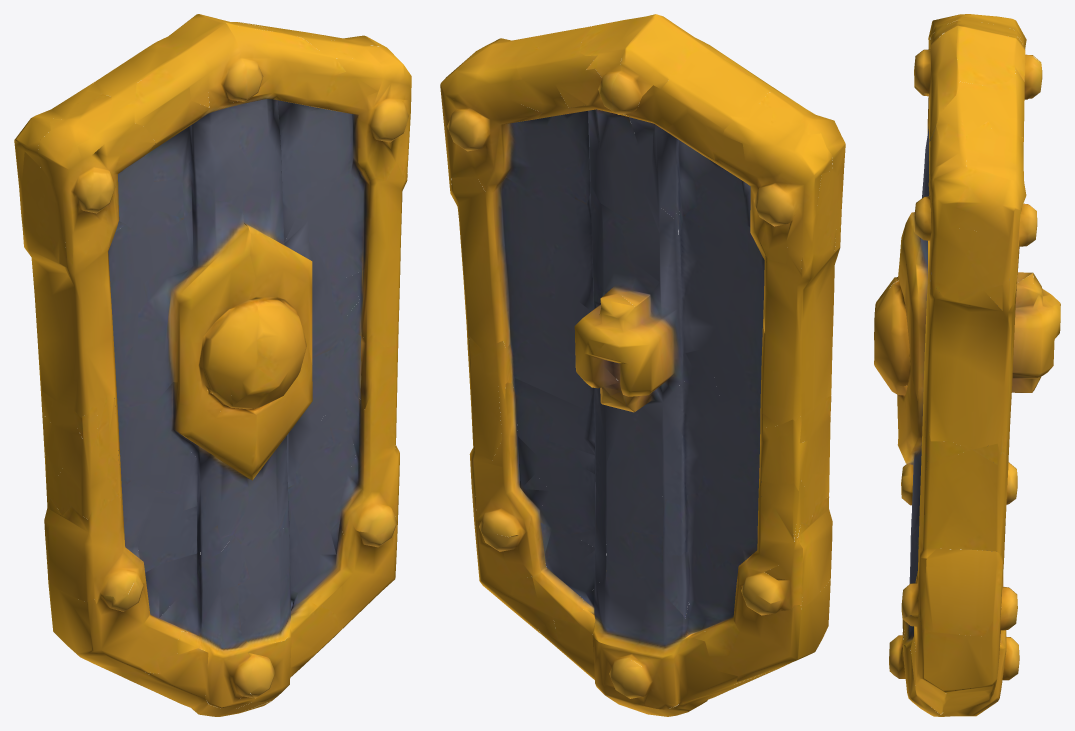
The model's file is Arm_tower_shield-CY13zPjB.glb.
3 views of the same model, side by side, from view 1: azimuth 30°, elevation 25°; view 2: azimuth 150°, elevation 25°; view 3: azimuth 270°, elevation 25° (orthographic).
Parts seen in each view (by area): view 1: Arm_tower_shield; view 2: Arm_tower_shield; view 3: Arm_tower_shield.
Boxes of the visible parts, x1,y1,x2,y2 form: Arm_tower_shield: (14,14,411,716); Arm_tower_shield: (440,14,845,716); Arm_tower_shield: (874,14,1060,716).
Bounding box in the file's own units: 0.6223 × 1.1 × 0.2736.
Materials: 1 (1 with a texture image).
